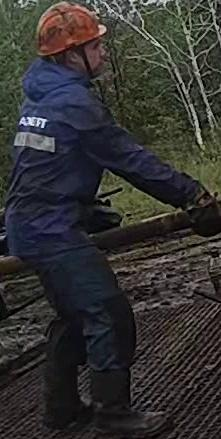gloves: (184, 186, 220, 237)
helmet: (35, 0, 107, 57)
vest: (2, 56, 115, 257)
